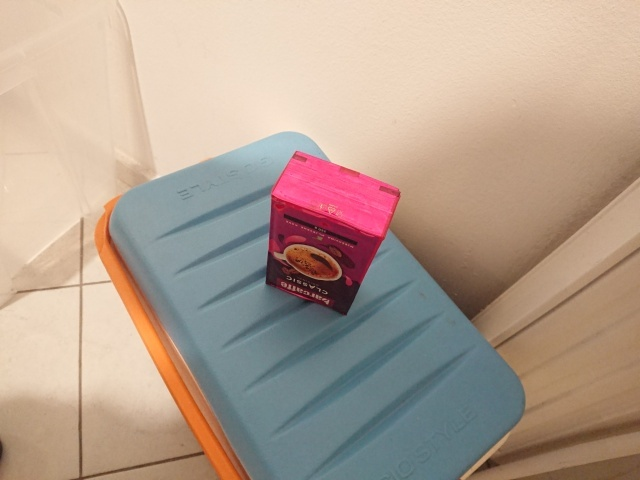Barcaffe Classic Original 225g: (264, 147, 404, 319)
